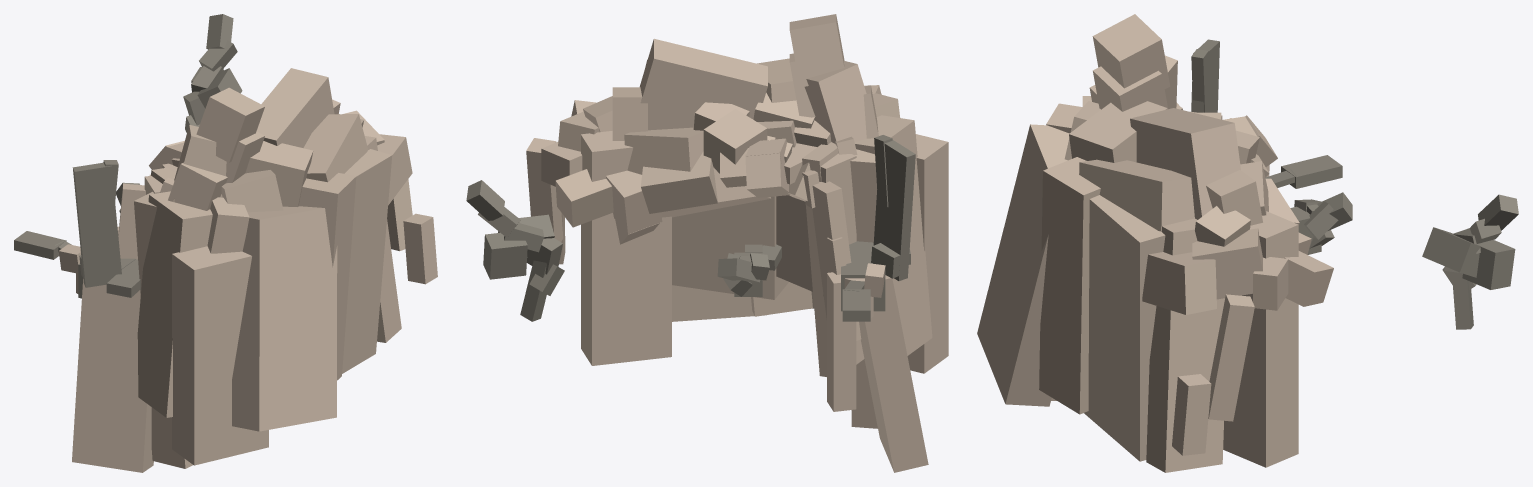
The model's file is p_PillarEntrance.fbx.
3 renders of one model, left to right at view 1: azimuth 30°, elevation 25°; view 2: azimuth 150°, elevation 25°; view 3: azimuth 270°, elevation 25°, orthographic. The views are drawn at different scales.
Visible parts, largest first — view 1: Wall_Smell__15_, Wall_Smell__13_, Floor_hub__46_, Wall_Smell__10_, Wall_Smell__21_, Wall_Smell__3_, Wall_Smell__16_, Wall_Smell__24_, Wall_Smell__14_, Wall_Smell__49_, Floor_hub__44_, Floor_hub__47_ (+18 smaller); view 2: Wall_Smell, Wall_Smell__16_, Floor_hub__46_, Wall_Smell__9_, Wall_Smell__13_, Wall_Smell__10_, Wall_Smell__1_, Wall_Smell__3_, Wall_Smell__50_, Floor_hub__39_, Floor_hub__47_, Wall_Smell__25_ (+40 smaller); view 3: Wall_Smell__21_, Wall_Smell__15_, Wall_Smell__24_, Wall_Smell, Wall_Smell__22_, Wall_Smell__16_, Wall_Smell__14_, Wall_Smell__23_, Wall_Smell__28_, Wall_Smell__49_, Floor_hub__44_, Wall_Smell__42_ (+19 smaller).
Part boxes in pixels (<box>): Wall_Smell__15_: <box>232,206,337,431</box>; Wall_Smell__13_: <box>172,246,268,465</box>; Floor_hub__46_: <box>72,279,153,472</box>; Wall_Smell__10_: <box>137,191,212,417</box>; Wall_Smell__21_: <box>342,149,392,373</box>; Wall_Smell__3_: <box>72,162,121,287</box>; Wall_Smell__16_: <box>256,68,334,147</box>; Wall_Smell__24_: <box>298,173,356,380</box>; Wall_Smell__14_: <box>303,114,368,182</box>; Wall_Smell__49_: <box>196,87,264,162</box>; Floor_hub__44_: <box>245,141,313,206</box>; Floor_hub__47_: <box>134,191,192,468</box>; Wall_Smell: <box>581,131,671,365</box>; Wall_Smell__16_: <box>639,38,767,130</box>; Floor_hub__46_: <box>859,275,928,472</box>; Wall_Smell__9_: <box>672,196,788,299</box>; Wall_Smell__13_: <box>907,134,948,373</box>; Wall_Smell__10_: <box>854,115,932,355</box>; Wall_Smell__1_: <box>776,143,856,295</box>; Wall_Smell__3_: <box>873,140,915,280</box>; Wall_Smell__50_: <box>804,61,878,143</box>; Floor_hub__39_: <box>827,272,856,411</box>; Floor_hub__47_: <box>850,149,877,428</box>; Wall_Smell__25_: <box>640,151,717,213</box>; Wall_Smell__21_: <box>1084,195,1165,461</box>; Wall_Smell__15_: <box>977,124,1069,406</box>; Wall_Smell__24_: <box>1039,157,1100,414</box>; Wall_Smell: <box>1223,211,1298,467</box>; Wall_Smell__22_: <box>1146,218,1224,472</box>; Wall_Smell__16_: <box>1130,108,1240,219</box>; Wall_Smell__14_: <box>1079,159,1194,231</box>; Wall_Smell__23_: <box>1142,252,1216,314</box>; Wall_Smell__28_: <box>1208,294,1254,421</box>; Wall_Smell__49_: <box>1092,14,1170,88</box>; Floor_hub__44_: <box>1069,101,1167,162</box>; Wall_Smell__42_: <box>1192,228,1262,299</box>.
Size of the model in its own units: 3878 by 3710 by 4284.
